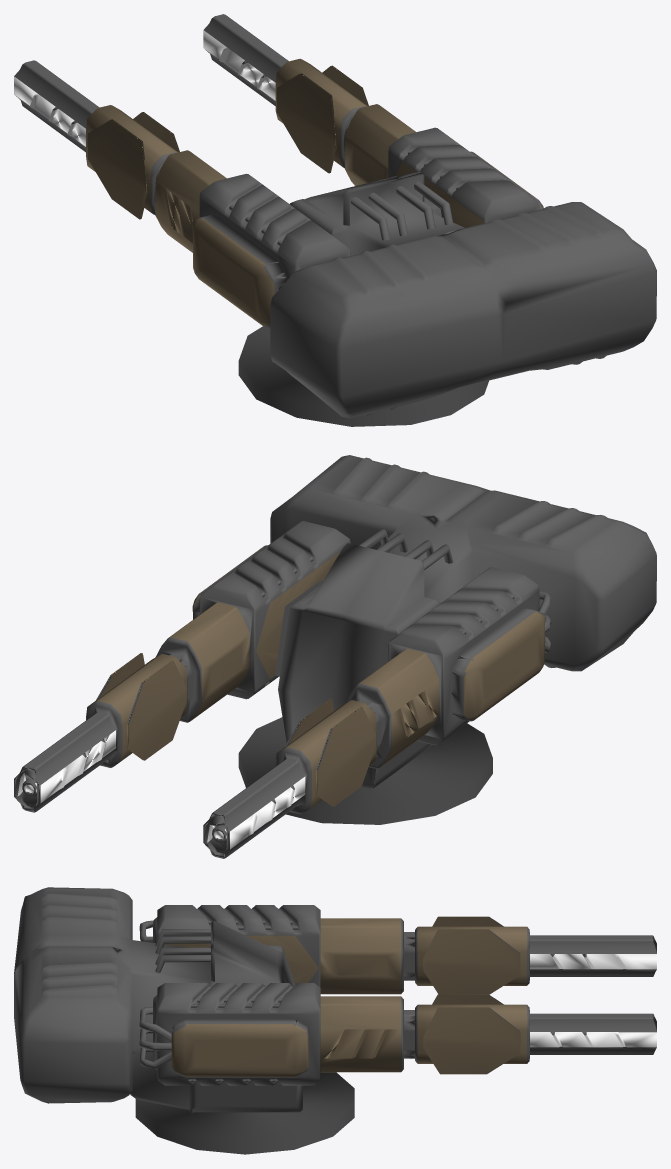
The model's file is spaceshipturret.fbx.
3 views of the same model, one above another, from view 1: azimuth 30°, elevation 25°; view 2: azimuth 150°, elevation 25°; view 3: azimuth 270°, elevation 25° (orthographic). The views are drawn at different scales.
Visible parts, largest first — view 1: Top, Gun, Foot; view 2: Gun, Top, Foot; view 3: Gun, Top, Foot.
Part boxes in pixels (x1=…): Top: x1=270, y1=171, x2=656, y2=418; Gun: x1=14, y1=14, x2=543, y2=328; Foot: x1=238, y1=326, x2=488, y2=426; Gun: x1=14, y1=521, x2=551, y2=858; Top: x1=270, y1=455, x2=656, y2=788; Foot: x1=238, y1=717, x2=492, y2=824; Gun: x1=139, y1=905, x2=656, y2=1085; Top: x1=14, y1=887, x2=302, y2=1113; Foot: x1=135, y1=1072, x2=354, y2=1154.
Bounding box in the file's own units: 253 × 149 × 500.
